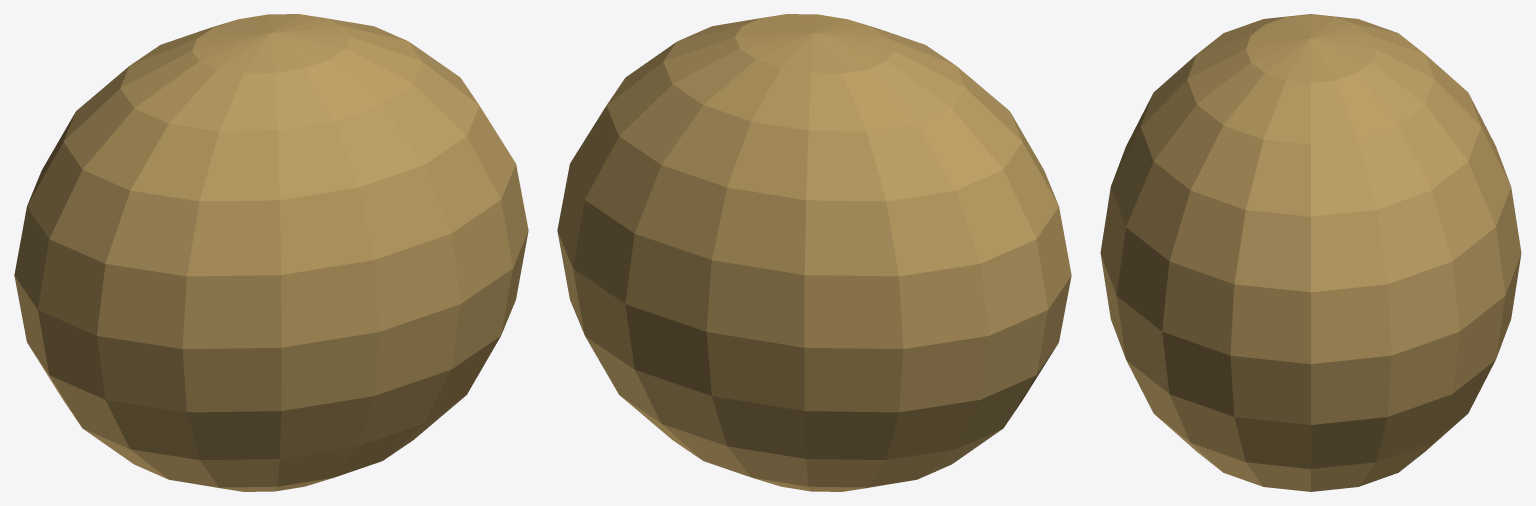
The model's file is prop_sack_1.glb.
3 renders of one model, left to right at view 1: azimuth 30°, elevation 25°; view 2: azimuth 150°, elevation 25°; view 3: azimuth 270°, elevation 25°, orthographic. The views are drawn at different scales.
Visible parts, largest first — view 1: PROP_Sack_1; view 2: PROP_Sack_1; view 3: PROP_Sack_1.
Part boxes in pixels (x1=…): PROP_Sack_1: x1=14, y1=14, x2=528, y2=491; PROP_Sack_1: x1=557, y1=14, x2=1071, y2=491; PROP_Sack_1: x1=1100, y1=14, x2=1521, y2=491.
Size of the model in its own units: 0.5 by 0.45 by 0.4.
